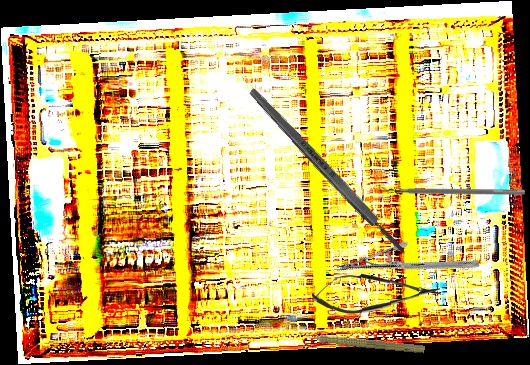Handpiece: (297, 327, 426, 356)
Micro Scissor: (311, 270, 441, 316)
Needle Holder: (334, 201, 482, 331)
Scalpel Handle: (247, 85, 408, 257)
Spatula Surgical: (379, 183, 525, 195)
